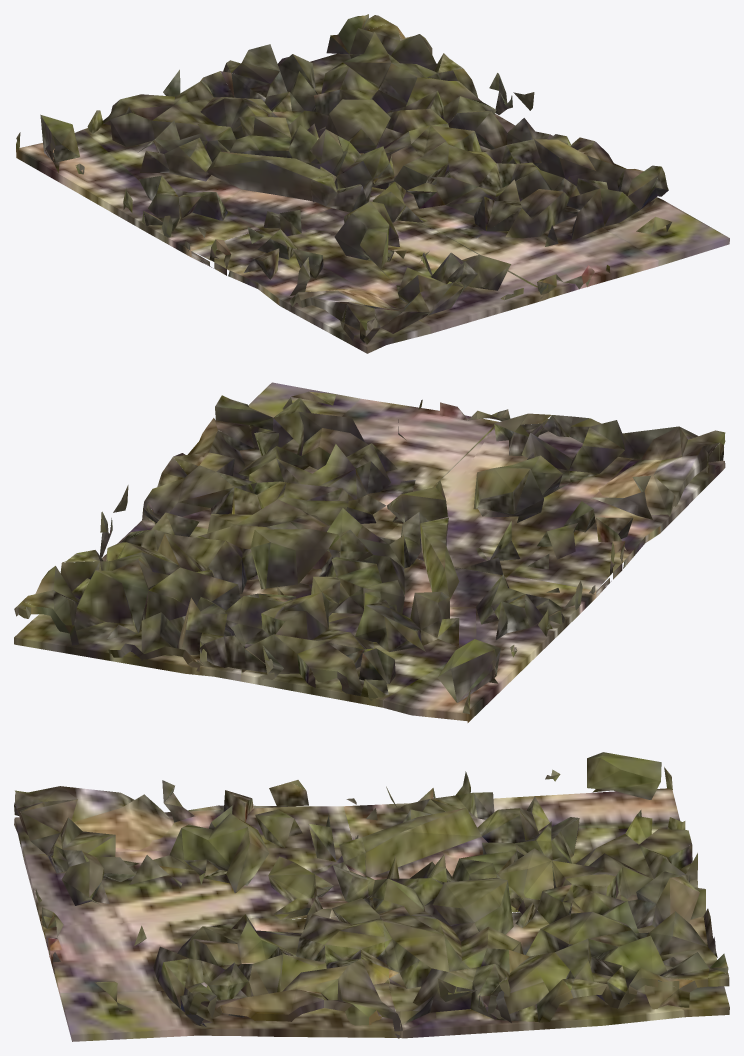
3 renders of one model, top to bottom at view 1: azimuth 30°, elevation 25°; view 2: azimuth 150°, elevation 25°; view 3: azimuth 270°, elevation 25°, orthographic. The views are drawn at different scales.
Visible parts, largest first — view 1: Mesh_0; view 2: Mesh_0; view 3: Mesh_0.
Boxes of the visible parts, x1,y1,x2,y2 form: Mesh_0: (16,14,729,353); Mesh_0: (14,382,725,722); Mesh_0: (14,752,729,1041).
Bounding box in the file's own units: 267 × 37.26 × 330.
Materials: 2 (2 with a texture image).
